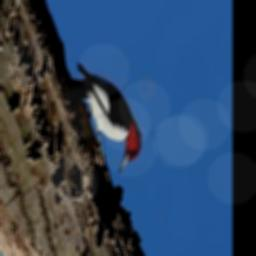Woodpecker: (62, 56, 151, 181)
